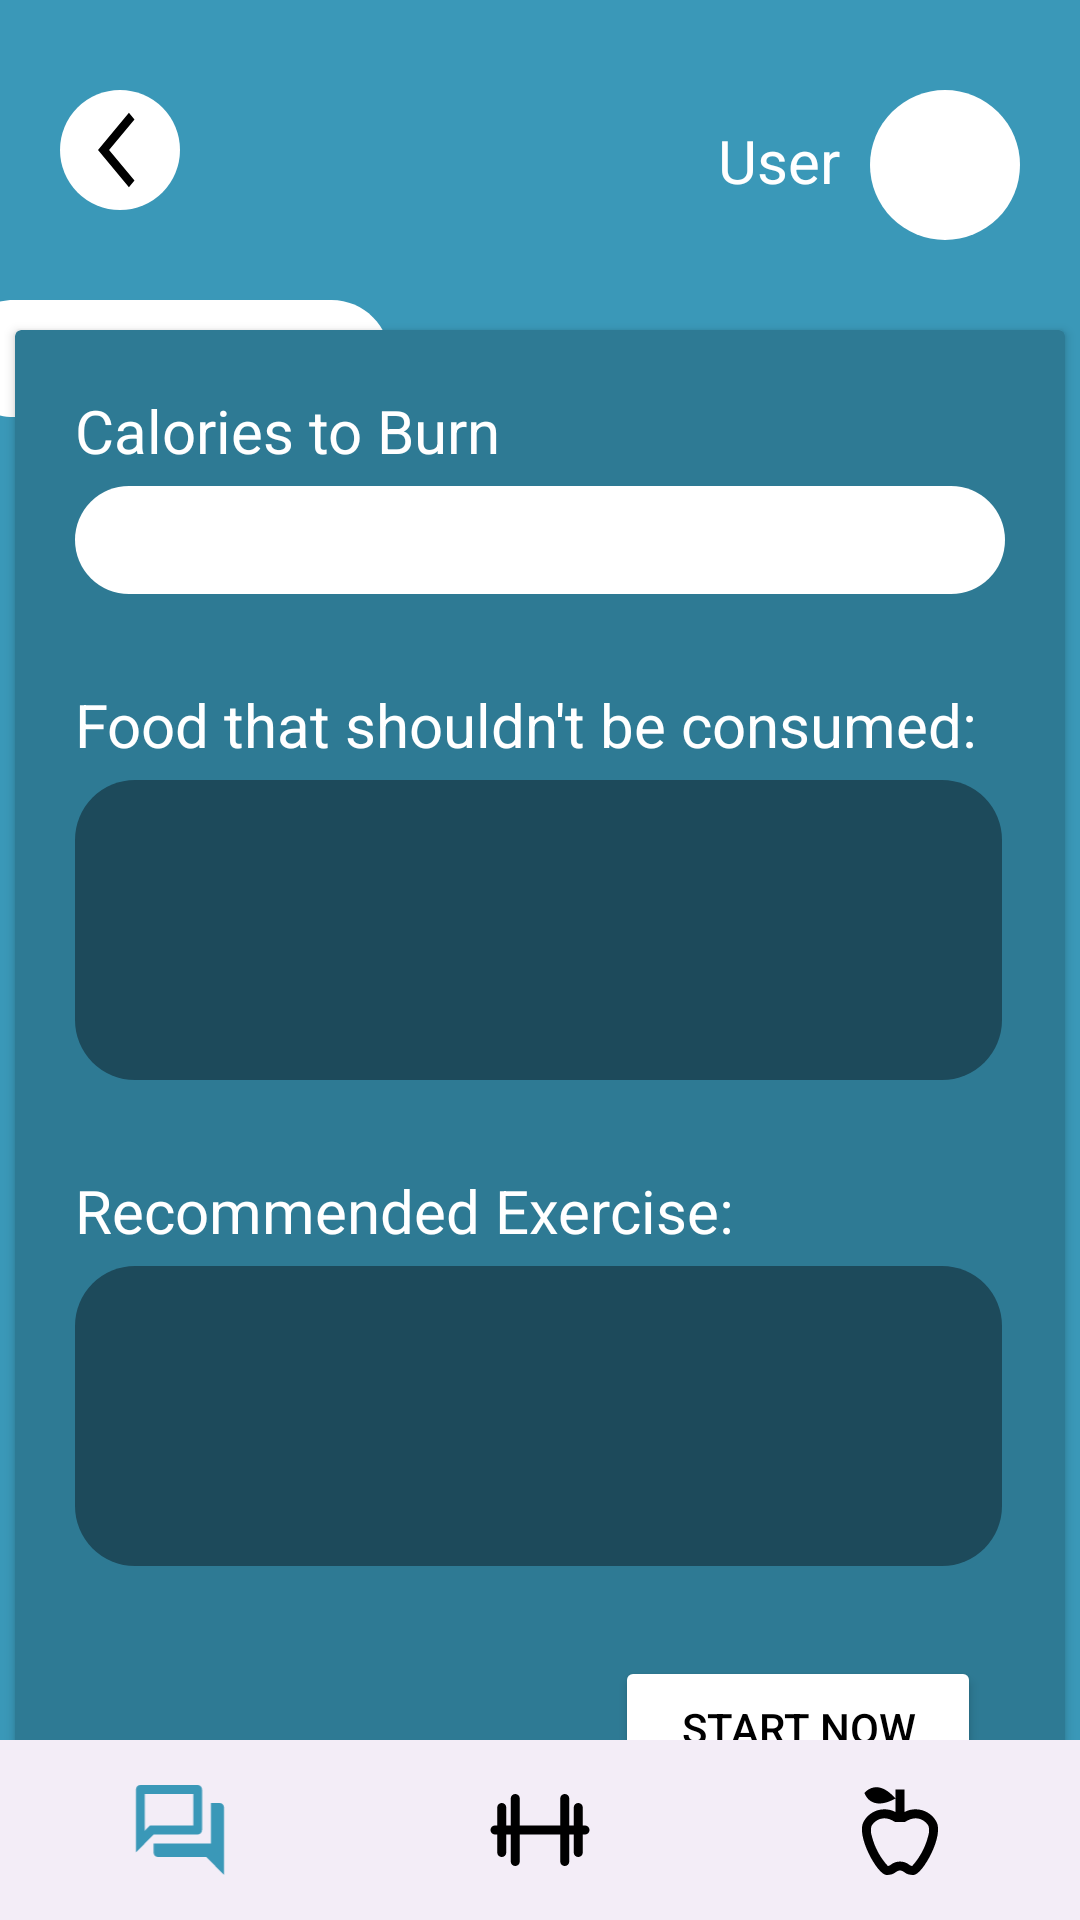

Point at icon controls on the screen. Image size 1080×1920, points as [x,y].
arrow back: [120,150]
